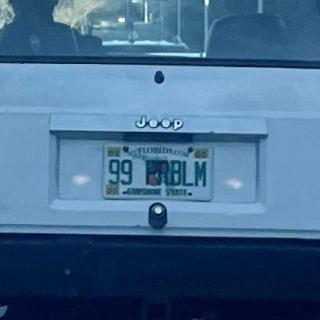license: (101, 142, 217, 204)
